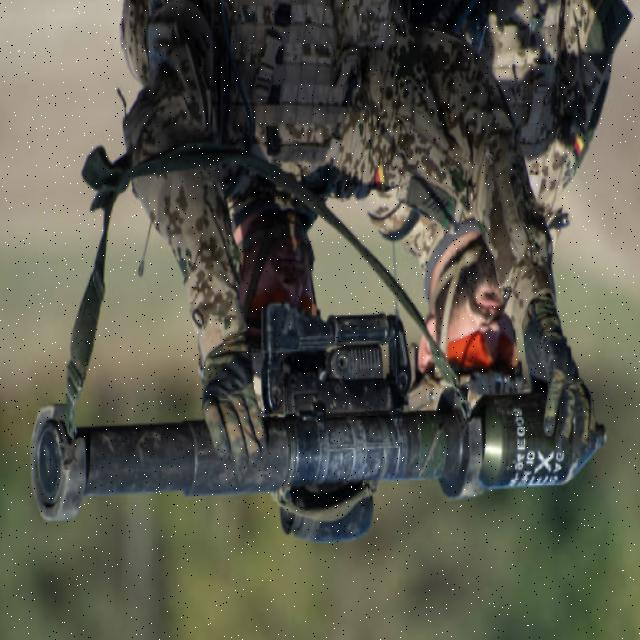bazooka: (20, 386, 623, 535)
